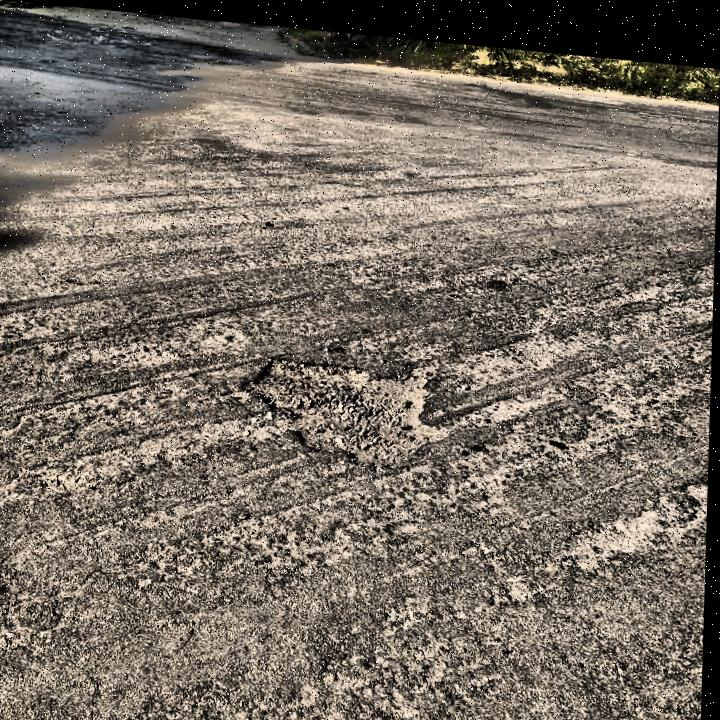pothole: (238, 340, 454, 467)
